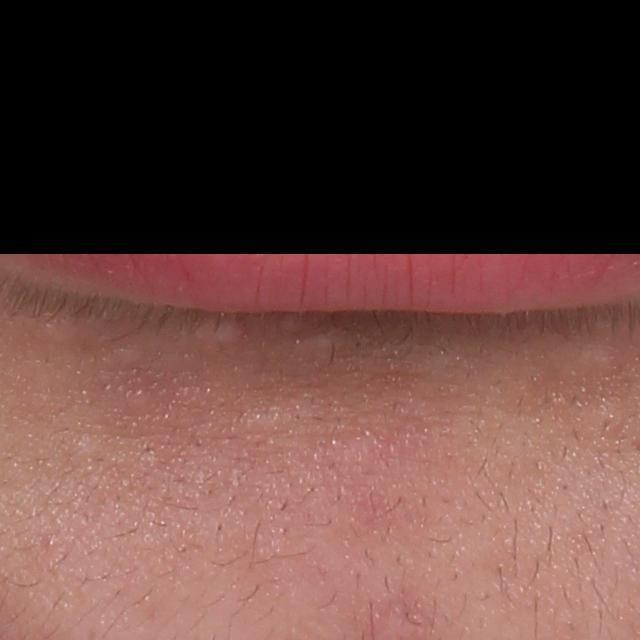hypertrophic_scar: (185, 317, 248, 349), (301, 326, 357, 359)
